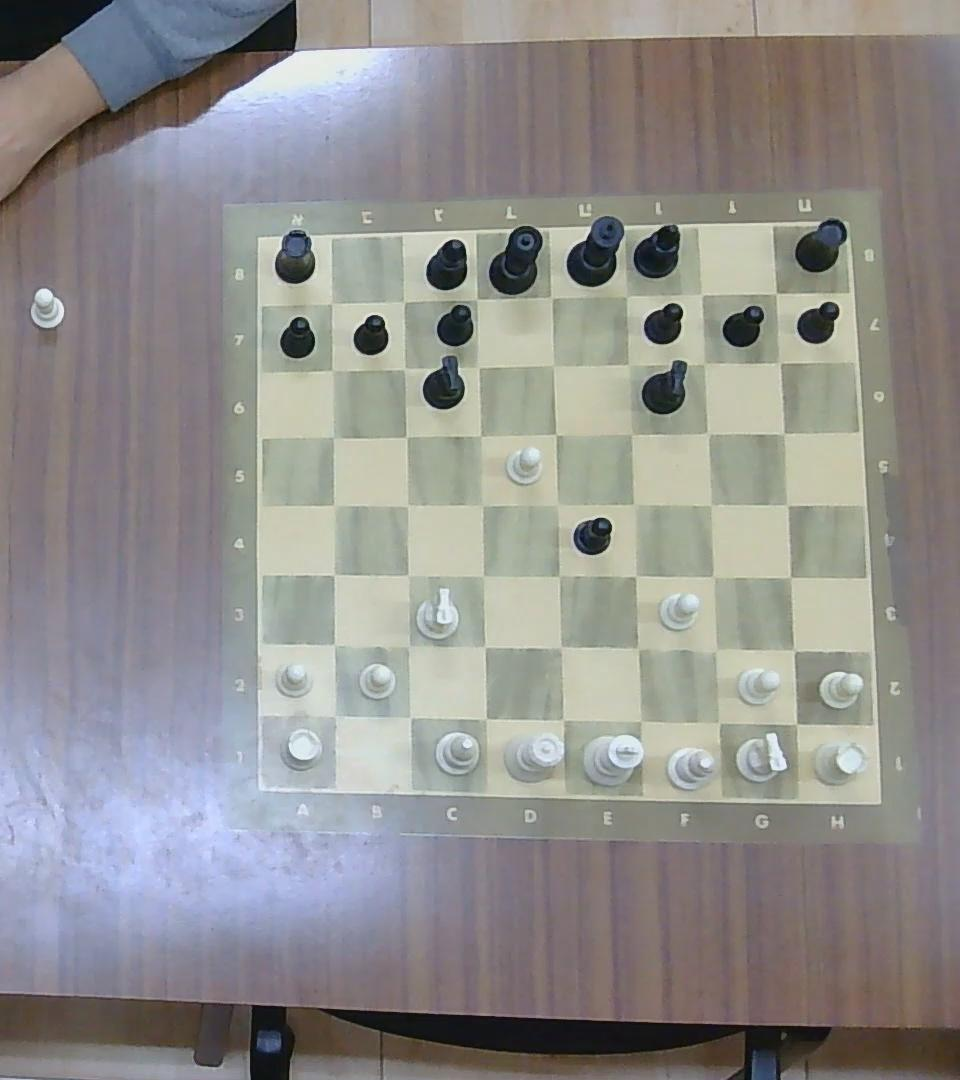xcorner: (779, 705, 813, 739), (701, 705, 735, 738), (621, 631, 653, 664), (623, 704, 656, 736), (546, 702, 579, 734), (543, 630, 575, 662), (319, 699, 350, 731), (393, 701, 424, 732), (470, 703, 501, 734), (699, 634, 731, 664), (775, 561, 805, 592), (698, 561, 728, 592), (777, 634, 808, 664), (469, 631, 499, 661), (468, 560, 498, 590), (393, 631, 423, 661), (319, 629, 349, 659), (621, 560, 650, 590), (543, 488, 572, 517), (393, 561, 423, 589), (467, 488, 495, 517), (320, 559, 348, 588), (320, 490, 349, 518), (542, 419, 570, 448), (616, 419, 645, 447), (693, 419, 722, 447), (545, 561, 573, 589), (393, 490, 421, 518), (697, 490, 725, 518), (772, 489, 801, 516), (537, 283, 566, 310), (621, 489, 649, 516), (770, 418, 798, 445), (612, 281, 640, 308), (463, 285, 491, 312), (317, 290, 345, 317), (318, 421, 345, 448), (467, 420, 493, 447), (393, 422, 419, 448), (318, 356, 344, 382), (540, 351, 566, 377), (464, 353, 491, 378), (616, 351, 641, 377), (690, 350, 715, 375), (767, 348, 792, 373), (390, 288, 416, 312), (763, 281, 789, 305), (689, 281, 714, 305), (391, 356, 415, 379)
